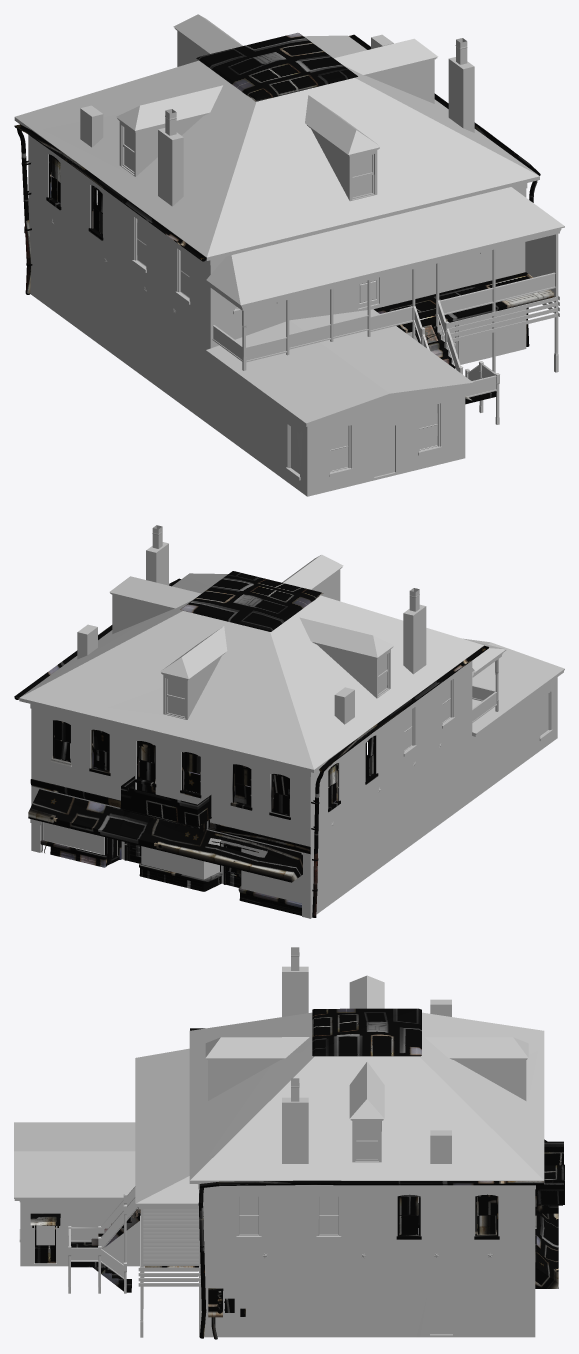
The model's file is Iffrig_Mercantile_Bldg.fbx.
3 views of the same model, one above another, from view 1: azimuth 30°, elevation 25°; view 2: azimuth 150°, elevation 25°; view 3: azimuth 270°, elevation 25° (orthographic). The views are drawn at different scales.
Visible parts, largest first — view 1: Roof_Chimney, Back_Half, Back_Trims, Front_Half, Front_Trims, Glass_Back, Roof_Glass, Glass_Front; view 2: Roof_Chimney, Front_Half, Front_Trims, Back_Half, Awning, Glass_Front, Glass_Front_Display, Balcony, Back_Trims, Glass_Back, Roof_Glass; view 3: Roof_Chimney, Back_Half, Front_Half, Back_Trims, Front_Trims, Glass_Back, Awning, Glass_Front, Balcony, Roof_Glass.
Boxes of the visible parts, x1,y1,x2,y2 form: Roof_Chimney: [14, 14, 554, 426]; Back_Half: [118, 188, 526, 496]; Back_Trims: [132, 187, 564, 477]; Front_Half: [28, 135, 277, 474]; Front_Trims: [14, 32, 554, 404]; Glass_Back: [137, 219, 454, 480]; Roof_Glass: [124, 127, 372, 197]; Glass_Front: [51, 157, 102, 233]; Roof_Chimney: [19, 525, 564, 776]; Front_Half: [31, 696, 531, 918]; Front_Trims: [14, 571, 488, 917]; Back_Half: [390, 661, 557, 859]; Awning: [28, 789, 302, 882]; Glass_Front: [55, 721, 373, 874]; Glass_Front_Display: [44, 822, 301, 903]; Balcony: [121, 776, 211, 834]; Back_Trims: [218, 639, 506, 845]; Glass_Back: [404, 681, 552, 750]; Roof_Glass: [167, 655, 387, 716]; Roof_Chimney: [14, 947, 544, 1277]; Back_Half: [20, 1189, 369, 1337]; Front_Half: [262, 1189, 535, 1337]; Back_Trims: [19, 1048, 341, 1337]; Front_Trims: [30, 1008, 564, 1339]; Glass_Back: [36, 1196, 338, 1245]; Awning: [535, 1139, 558, 1288]; Glass_Front: [399, 1196, 496, 1234]; Balcony: [535, 1141, 563, 1213]; Roof_Glass: [356, 1124, 377, 1159].
Bounding box in the file's own units: 32.65 × 24.7 × 48.89.
